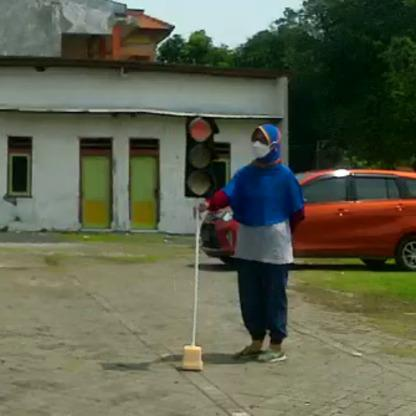red: (183, 115, 218, 200)
